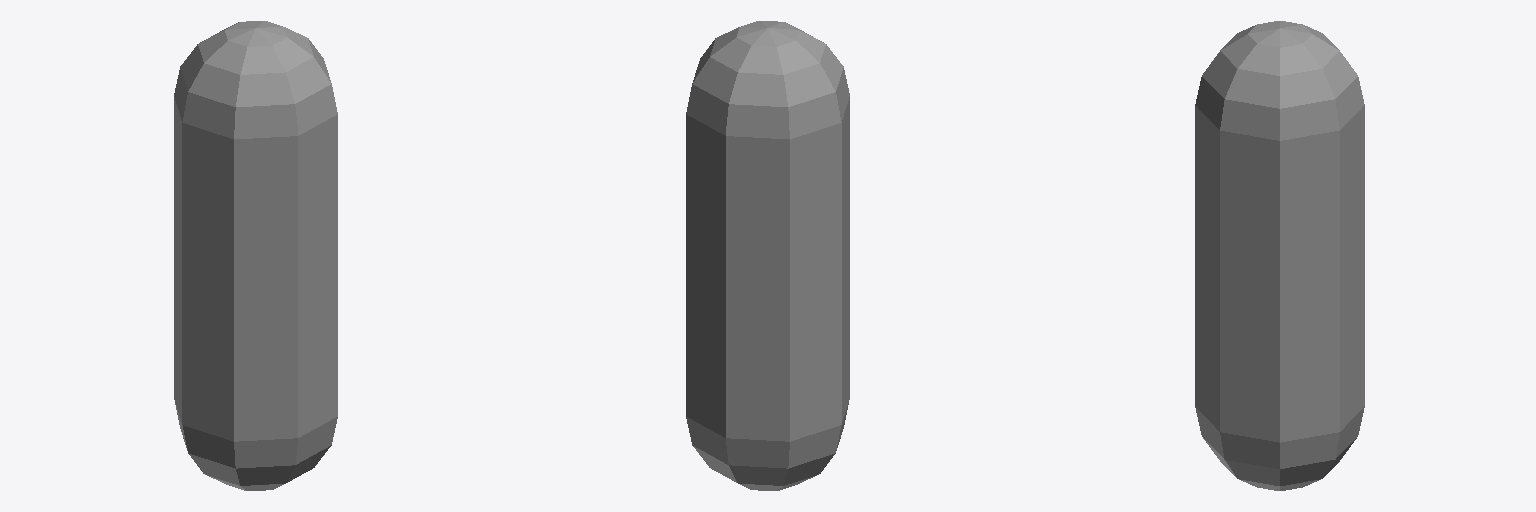
robot.urdf — Sherpa Operator:
<?xml version="1.0" ?>

<robot name="Sherpa Operator" xmlns:xacro="http://ros.org/wiki/xacro">
  <link name="operator">
    <!--MAIN_BODY-->
    <visual>
      <origin rpy="0 0 0" xyz="0 0 0"/>
      <geometry>
        <mesh filename="package://iai_rescue_operator_gazebo/models/sherpa_operator/meshes/capsule.dae"/>
      </geometry>
    </visual>
    <collision>
      <origin rpy="0 0 0" xyz="0 0 0"/>
      <geometry>
        <mesh filename="package://iai_rescue_operator_gazebo/models/sherpa_operator/meshes/capsule.stl"/>
      </geometry>
    </collision>
    <inertial>
      <mass value="80"/>
      <origin xyz="0 0 0"/>
      <inertia ixx="0.001" ixy="0.0" ixz="0.0" iyy="0.001" iyz="0.0" izz="0.001"/>
    </inertial>
  </link>
  
  
  <gazebo>
      <plugin name="operator_controller" filename="libiai_rescue_operator_model_gazebo.so">
      </plugin>
  </gazebo>
</robot>

--- Facts derived from the render (not from the file) ---
The picture shows the robot from 3 angles, left to right: view 1: azimuth 30°, elevation 25°; view 2: azimuth 150°, elevation 25°; view 3: azimuth 270°, elevation 25°; orthographic projection.
Robot: Sherpa Operator — 1 links, 0 joints (none); root link operator; default pose: every joint at zero.
Links seen in each view (by area): view 1: operator; view 2: operator; view 3: operator.
Link boxes in pixels (x1,y1,x2,y2): operator: (174,21,337,490); operator: (686,21,849,490); operator: (1195,21,1364,490).
Bounding box of the posed robot: 0.6 × 0.6 × 1.78 m (x, y, z).
Meshes: 1 distinct files referenced, 1 mesh visuals loaded (1 Collada DAE).
